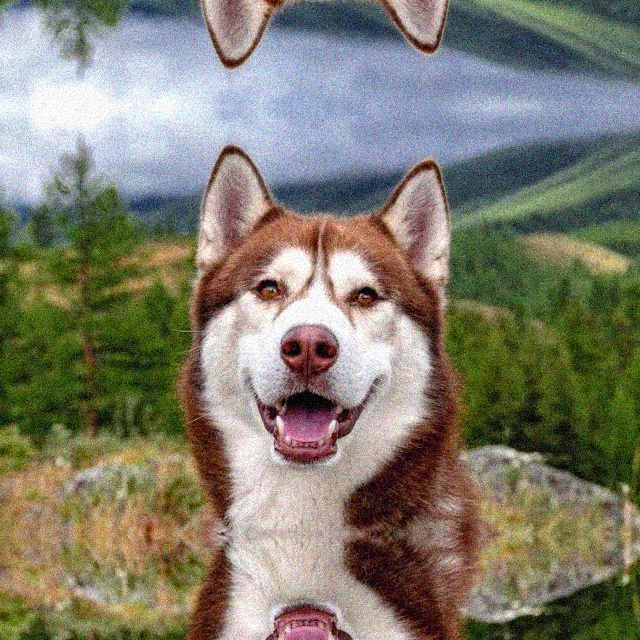dog: (128, 152, 476, 533), (128, 533, 476, 640), (128, 0, 476, 59)
